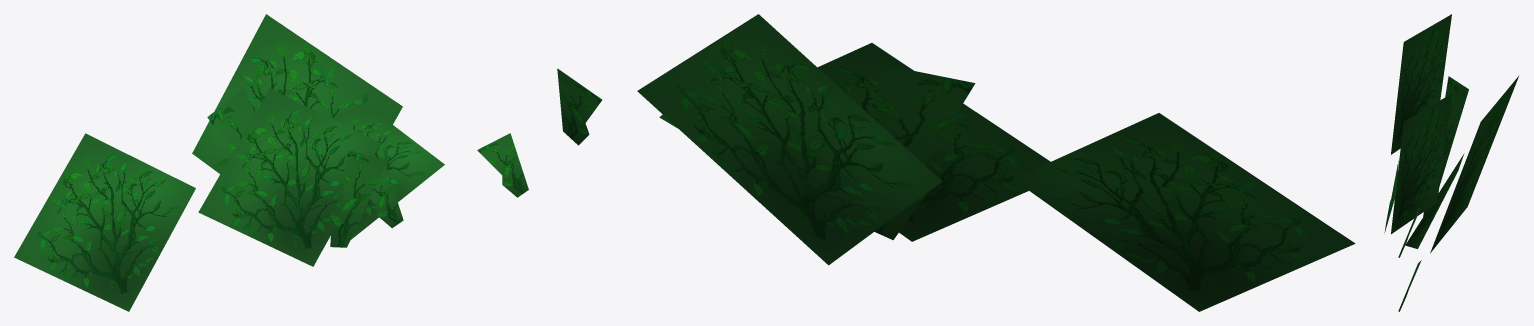
Rendered from 2_Plant_ZhiBei_01.FBX.
3 views of the same model, side by side, from view 1: azimuth 30°, elevation 25°; view 2: azimuth 150°, elevation 25°; view 3: azimuth 270°, elevation 25° (orthographic). The views are drawn at different scales.
Parts seen in each view (by area): view 1: 2_Plant_ZhiBei_01, 2_Plant_ZhiBei_03, 2_Plant_ZhiBei_02; view 2: 2_Plant_ZhiBei_01, 2_Plant_ZhiBei_03, 2_Plant_ZhiBei_02; view 3: 2_Plant_ZhiBei_01, 2_Plant_ZhiBei_03, 2_Plant_ZhiBei_02.
Boxes of the visible parts, box(x1,y1,x2,y2) form: 2_Plant_ZhiBei_01: box(192, 14, 444, 266); 2_Plant_ZhiBei_03: box(14, 133, 195, 311); 2_Plant_ZhiBei_02: box(477, 133, 528, 197); 2_Plant_ZhiBei_01: box(637, 14, 1050, 265); 2_Plant_ZhiBei_03: box(1013, 113, 1355, 311); 2_Plant_ZhiBei_02: box(557, 68, 602, 145); 2_Plant_ZhiBei_01: box(1384, 75, 1519, 257); 2_Plant_ZhiBei_03: box(1391, 14, 1451, 154); 2_Plant_ZhiBei_02: box(1398, 260, 1421, 311).
Bounding box in the file's own units: 1241 × 463 × 321.
